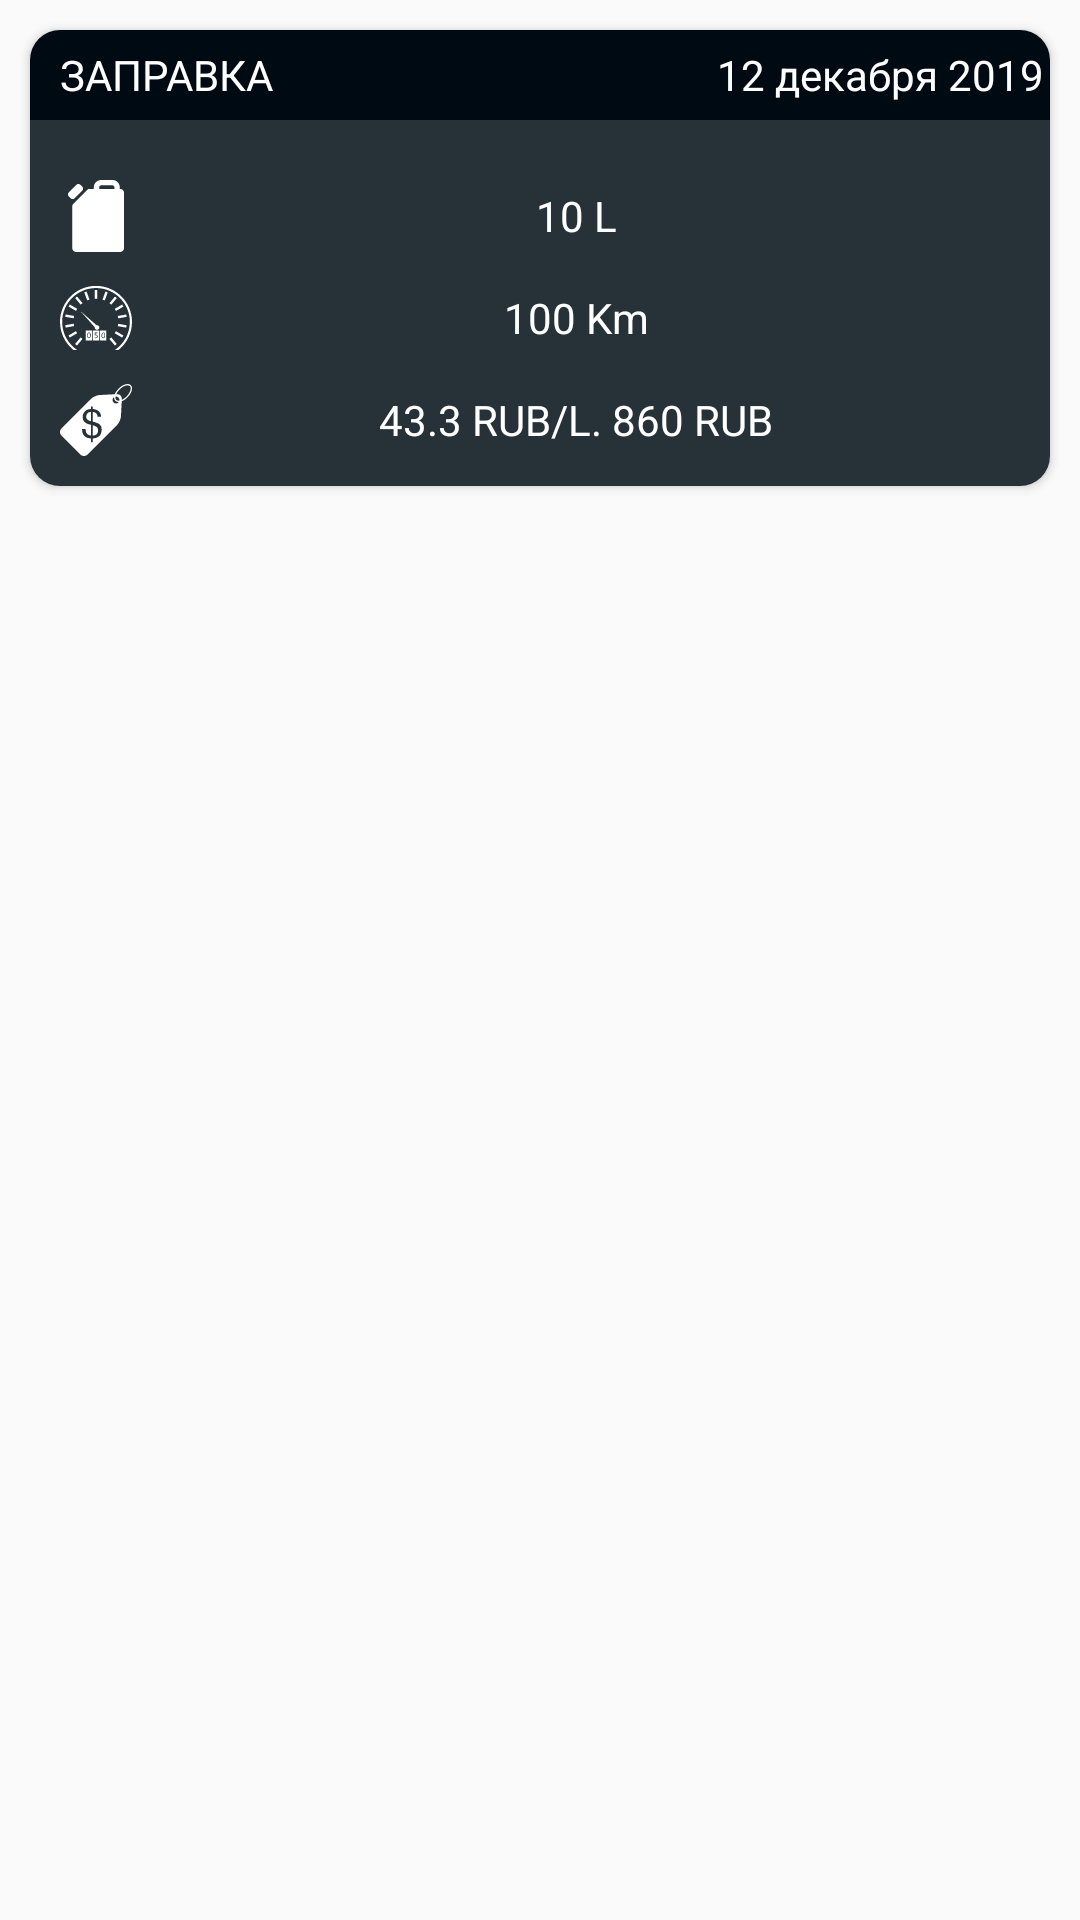

Locate icon controls on the screen. Image size 1080×1920, boxes as bbox(x1, y1, x2, y2).
odometer: bbox(60, 286, 132, 350)
oil station: bbox(68, 180, 124, 252)
price: bbox(60, 384, 132, 456)
